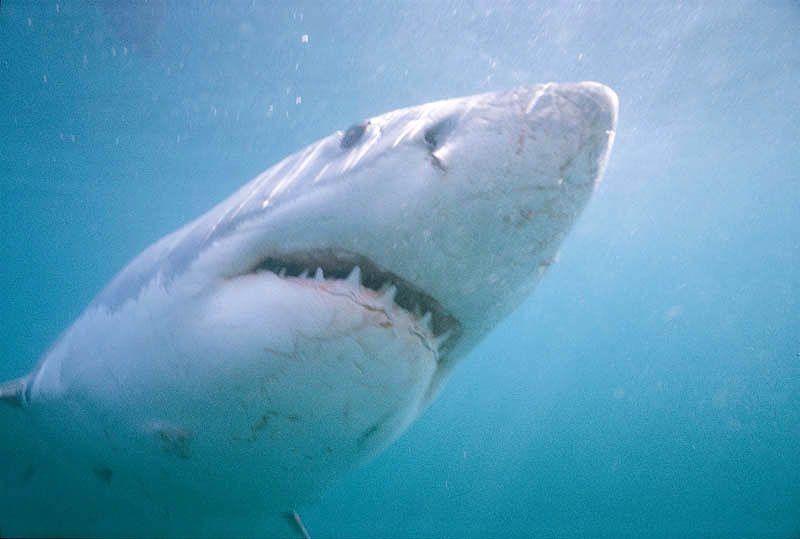Carcharodon_carcharias: (1, 76, 637, 532)
